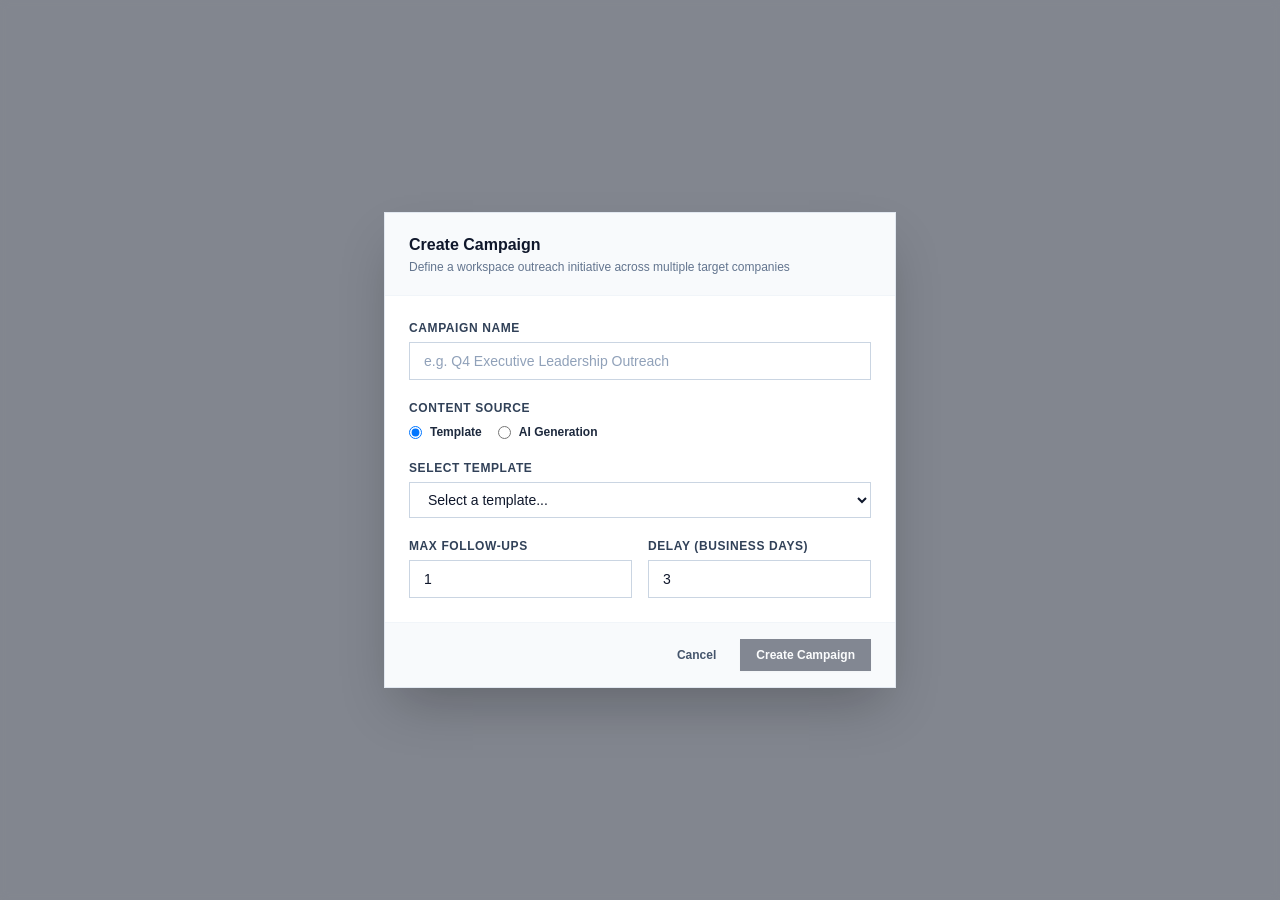
CreateCampaignModal - Multi-Company & Content Source Redesign › surfaces backend 4xx errors when createCampaign is rejected by the API
Type "Invalid Campaign" into the field labelled "Campaign Name" at x=640, y=361, box [409,342,871,380]
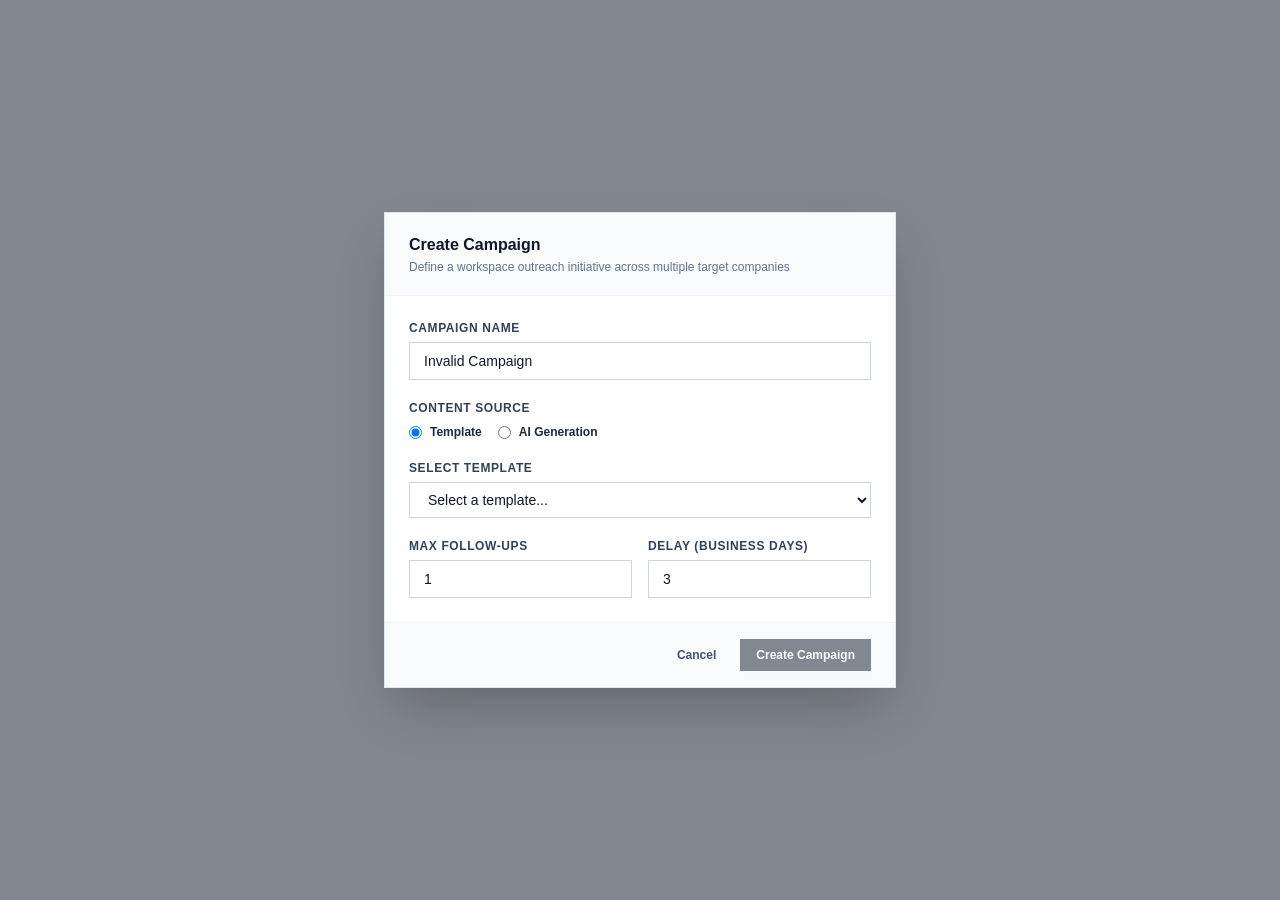
Click the radio button labelled "AI Generation" at x=504, y=432, box [498,426,511,438]
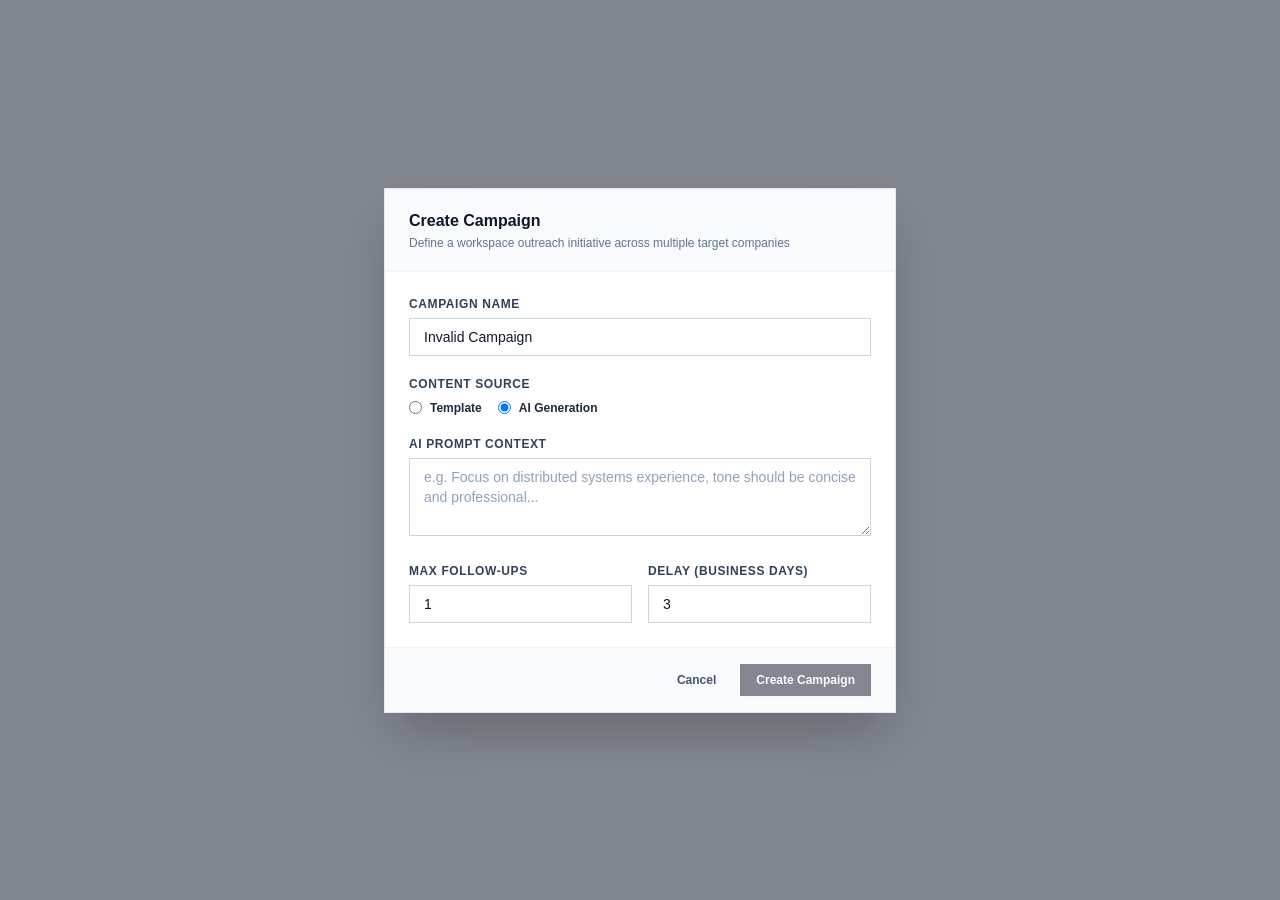
Replace the text in the text box labelled "AI Prompt Context" with "Valid context" at x=640, y=496, box [409,458,871,536]
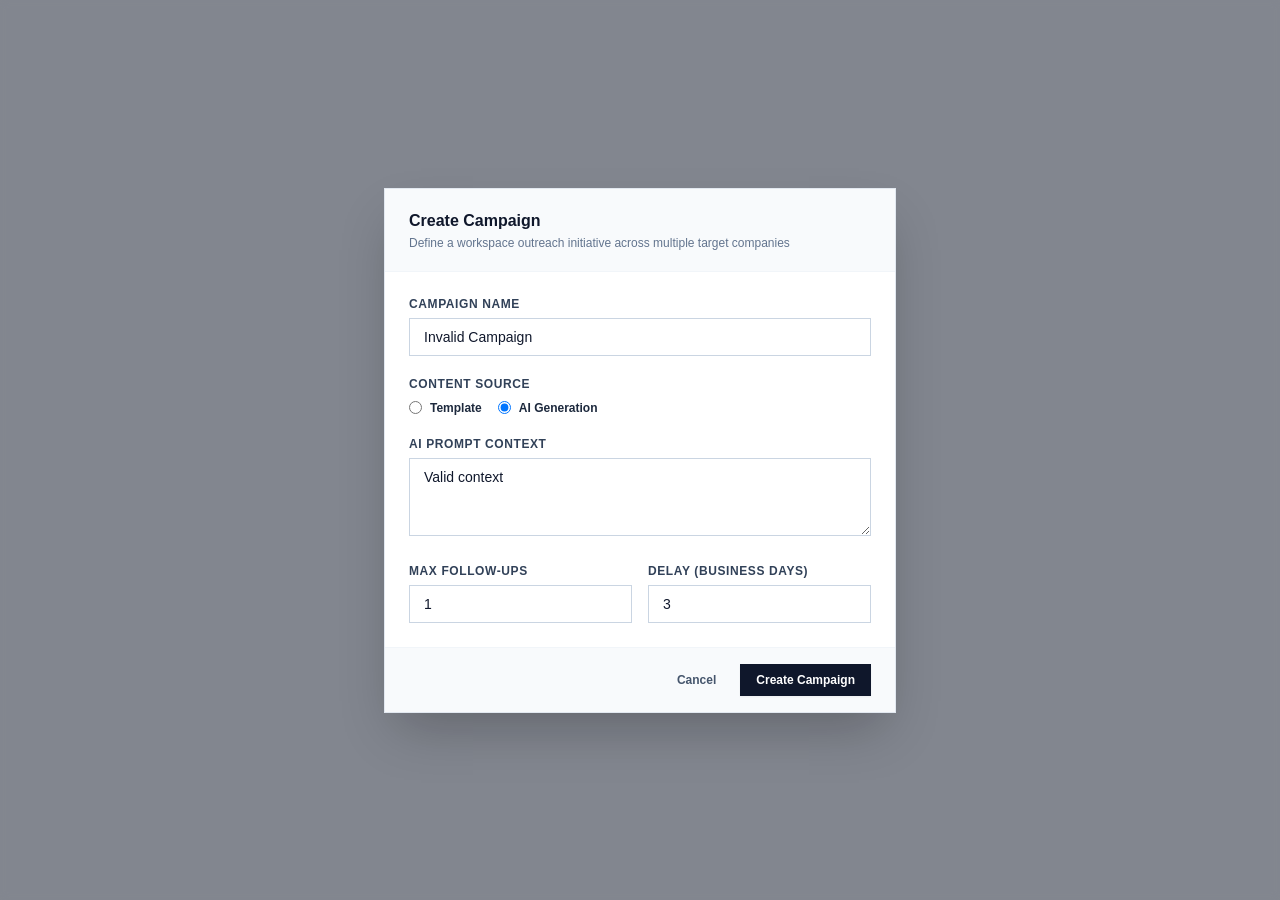
Click the button "Create Campaign" at x=806, y=680, box [740,664,871,696]
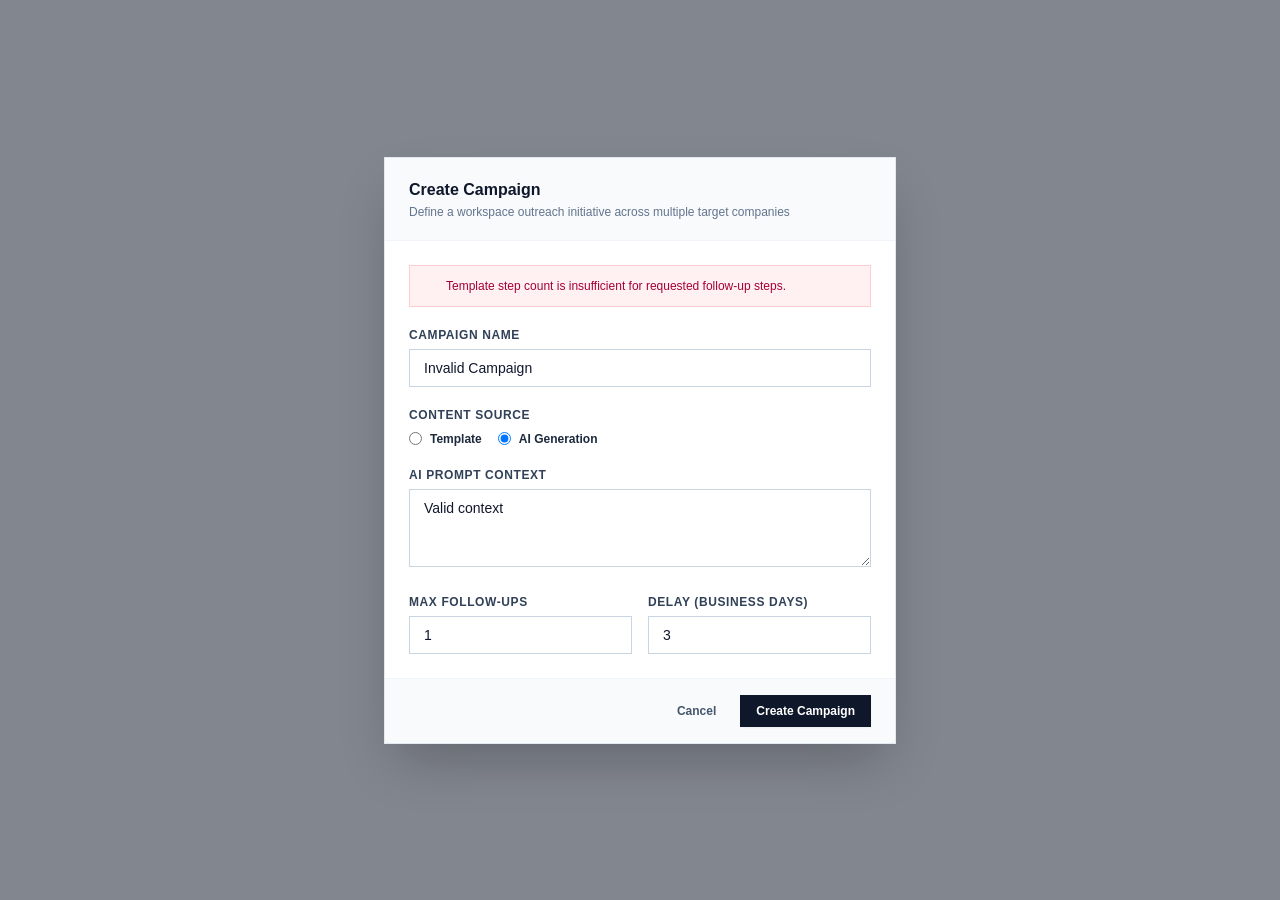
Result: the message reads "Template step count is insufficient for requested follow-up steps." at [446,278,786,292]
